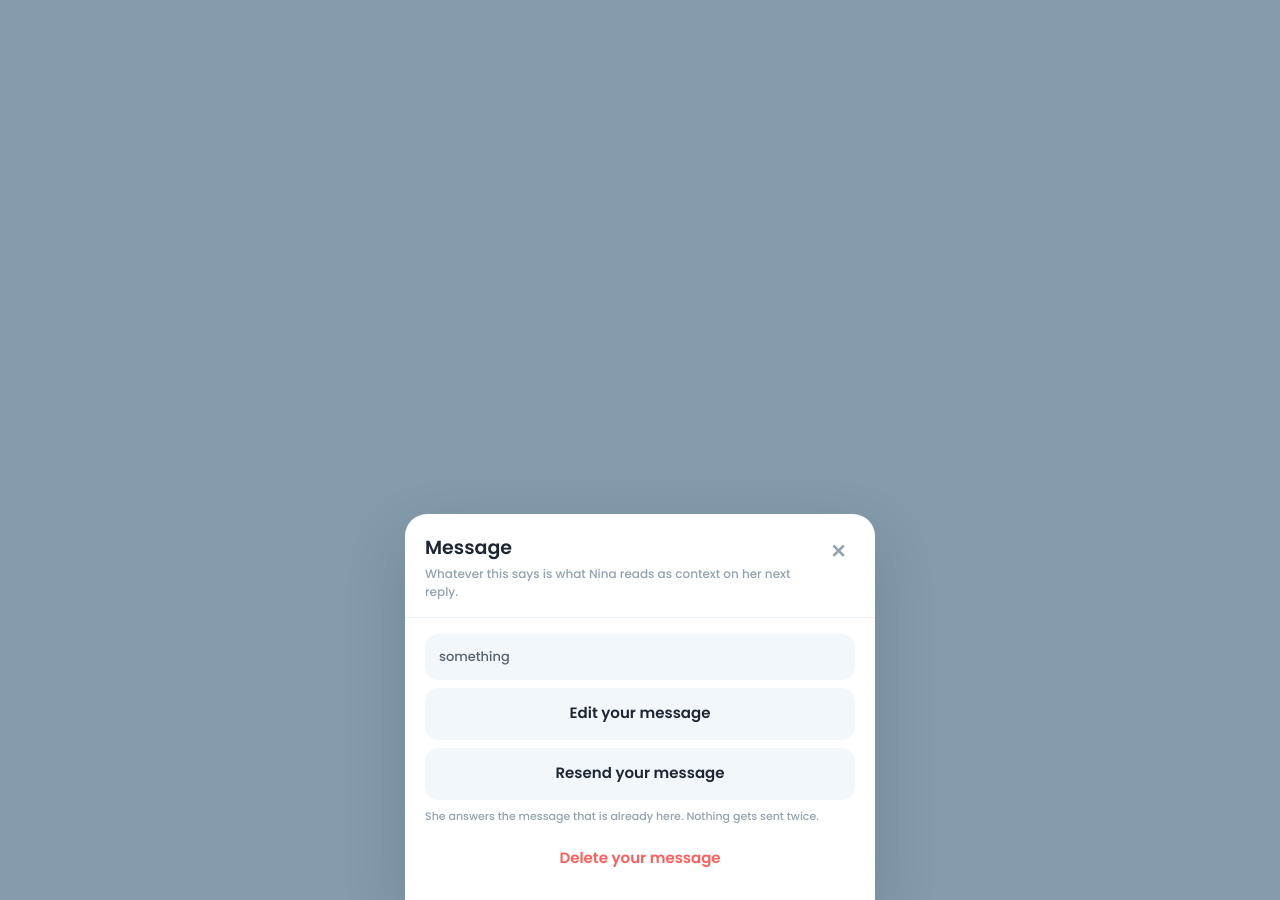
MessageActionsSheet › editing › refuses an empty edit on a text-only message with "delete instead"
Click the button "Edit your message" at (640, 714), box [425,688,855,740]
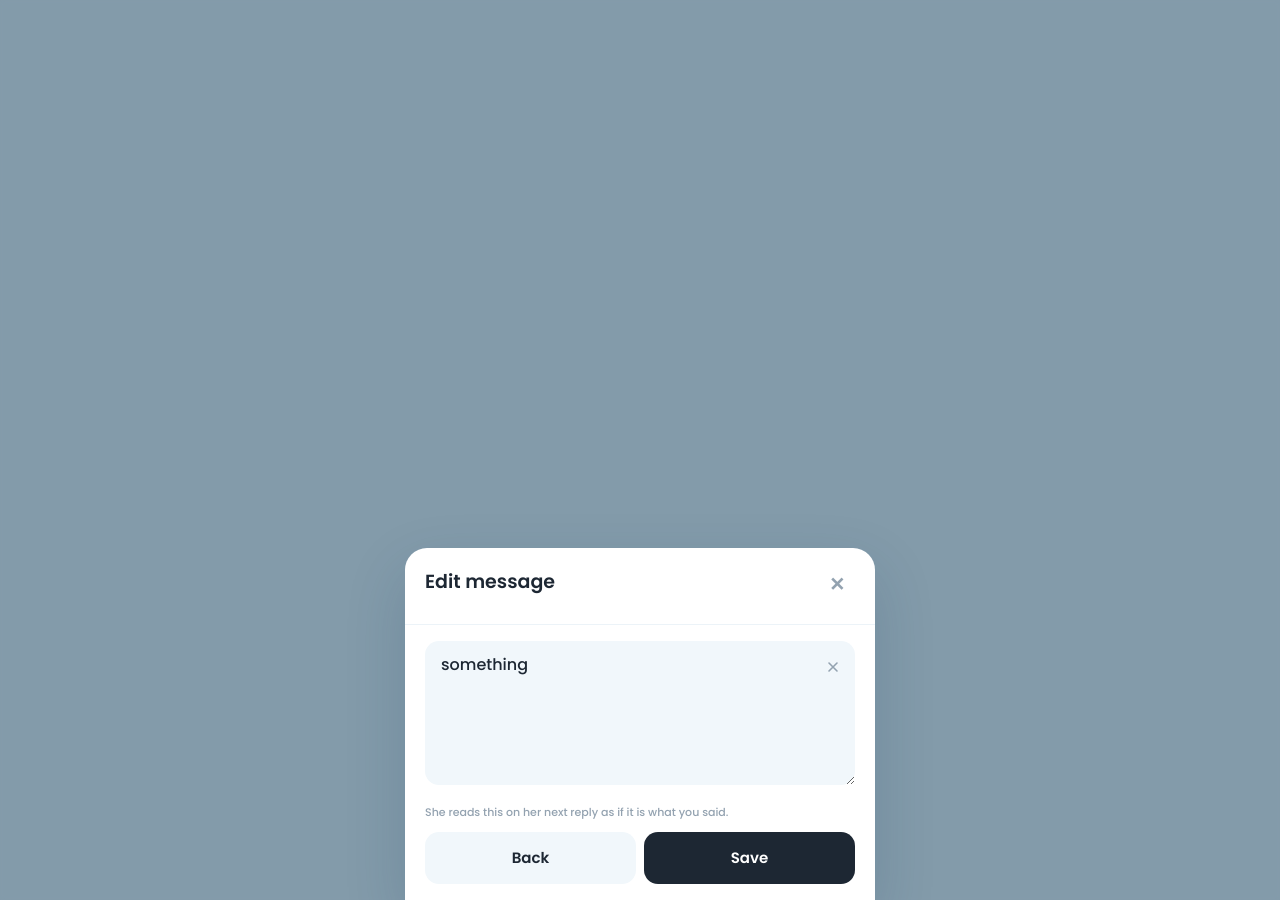
Clear the text box at (640, 712), box [425,640,855,784]
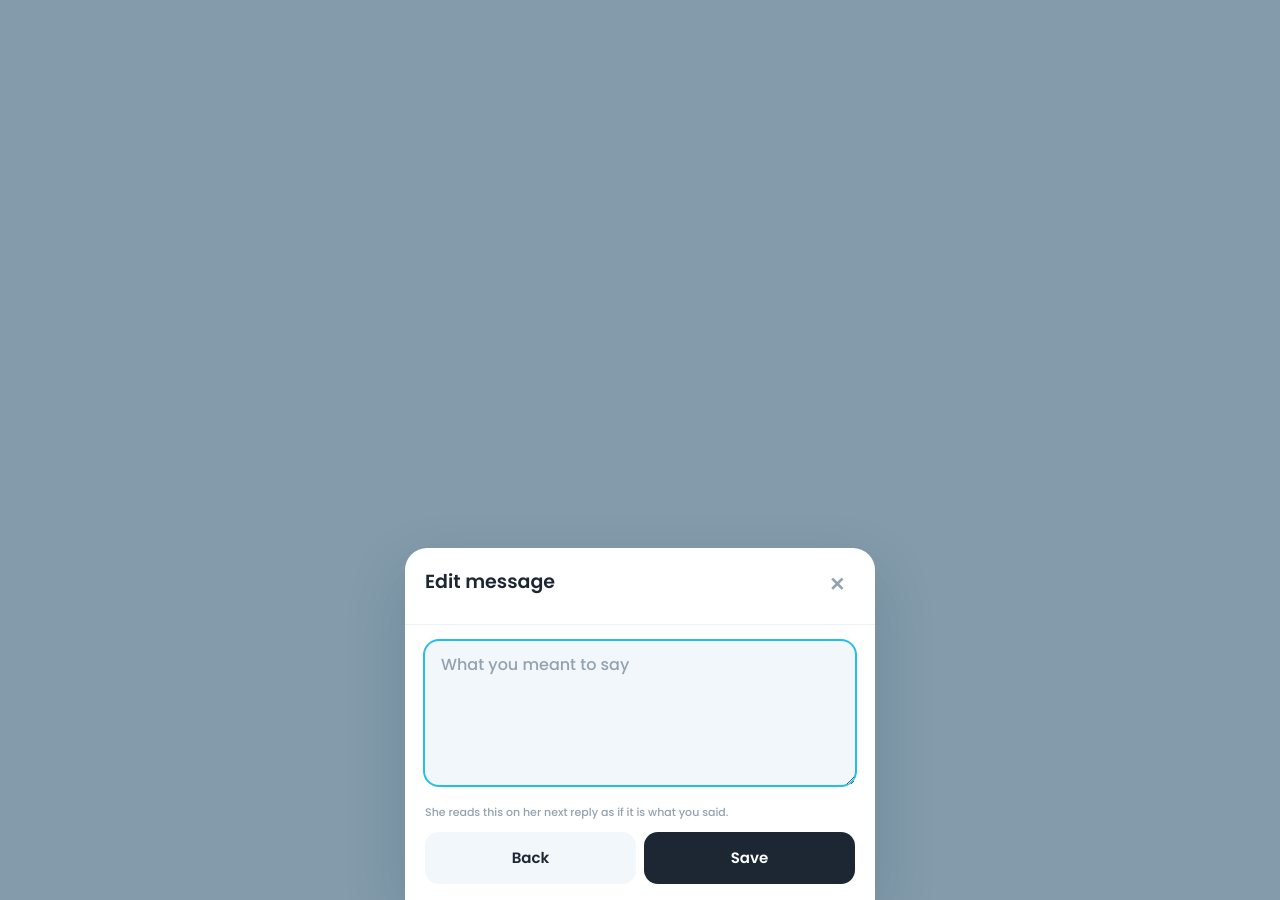
Click the button "Save" at (750, 858), box [644,832,855,884]
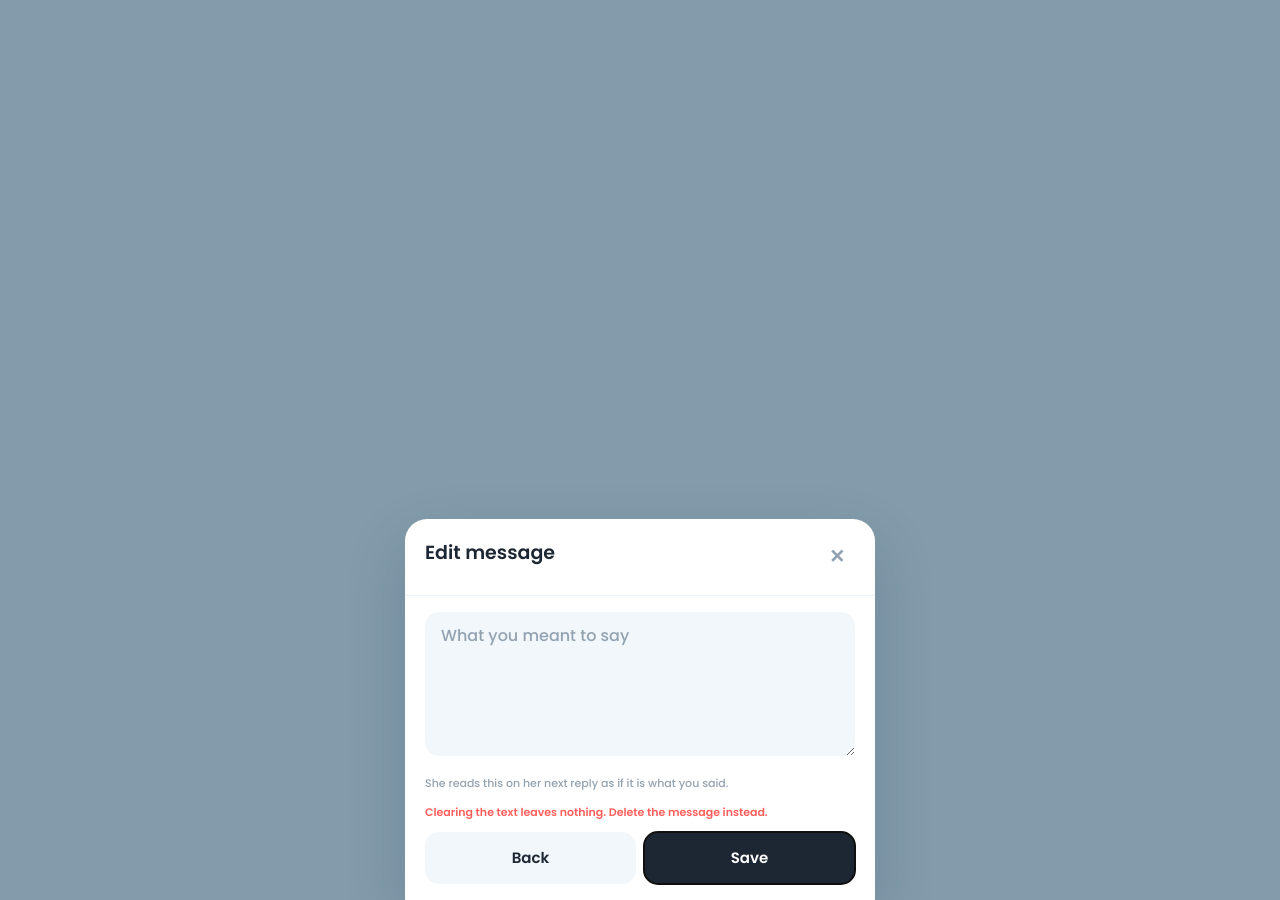
Now the text "Clearing the text leaves nothing. Delete the message instead." is shown, box [425,804,768,820]
